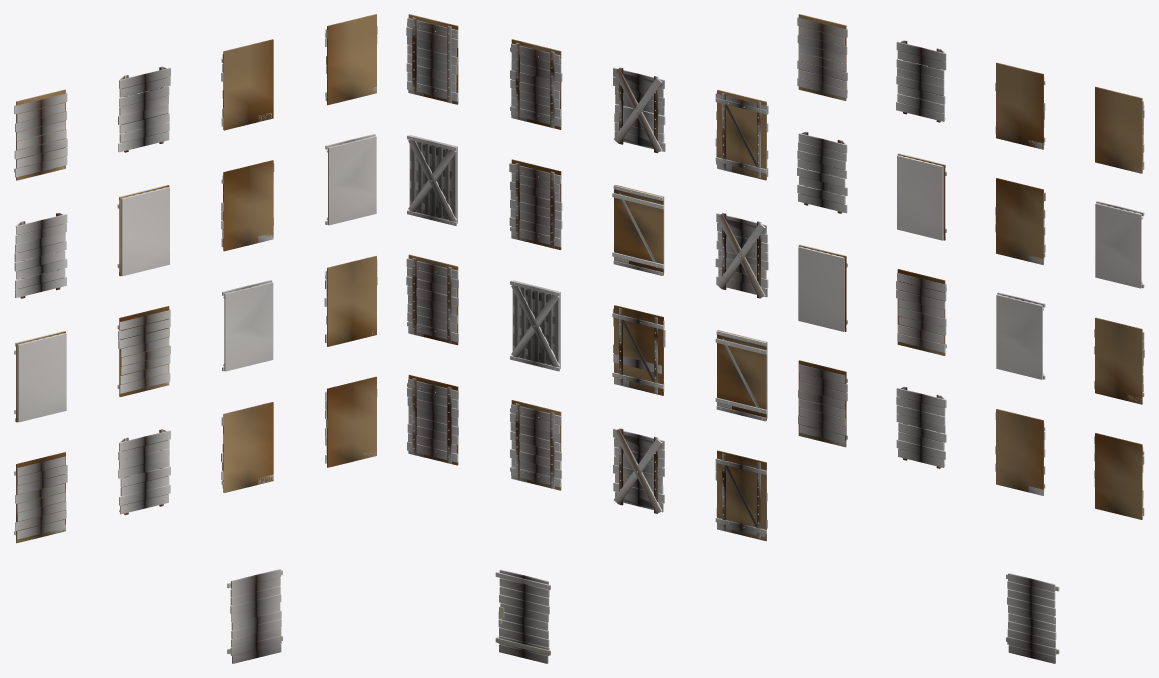
Rendered from boards_service_tenement.glb.
3 views of the same model, side by side, from view 1: azimuth 30°, elevation 25°; view 2: azimuth 150°, elevation 25°; view 3: azimuth 330°, elevation 25° (orthographic). The views are drawn at different scales.
Parts seen in each view (by area): view 1: boards_service_tenement; view 2: boards_service_tenement; view 3: boards_service_tenement.
Boxes of the visible parts, x1=… form: boards_service_tenement: x1=14, y1=14, x2=377, y2=663; boards_service_tenement: x1=406, y1=14, x2=768, y2=663; boards_service_tenement: x1=797, y1=14, x2=1144, y2=663.
Size of the model in its own units: 9.11 by 14.79 by 0.285.
